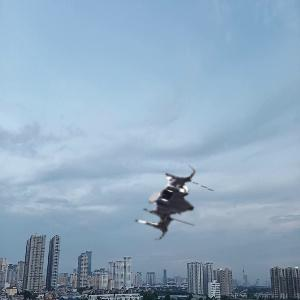drone: (125, 157, 217, 249)
